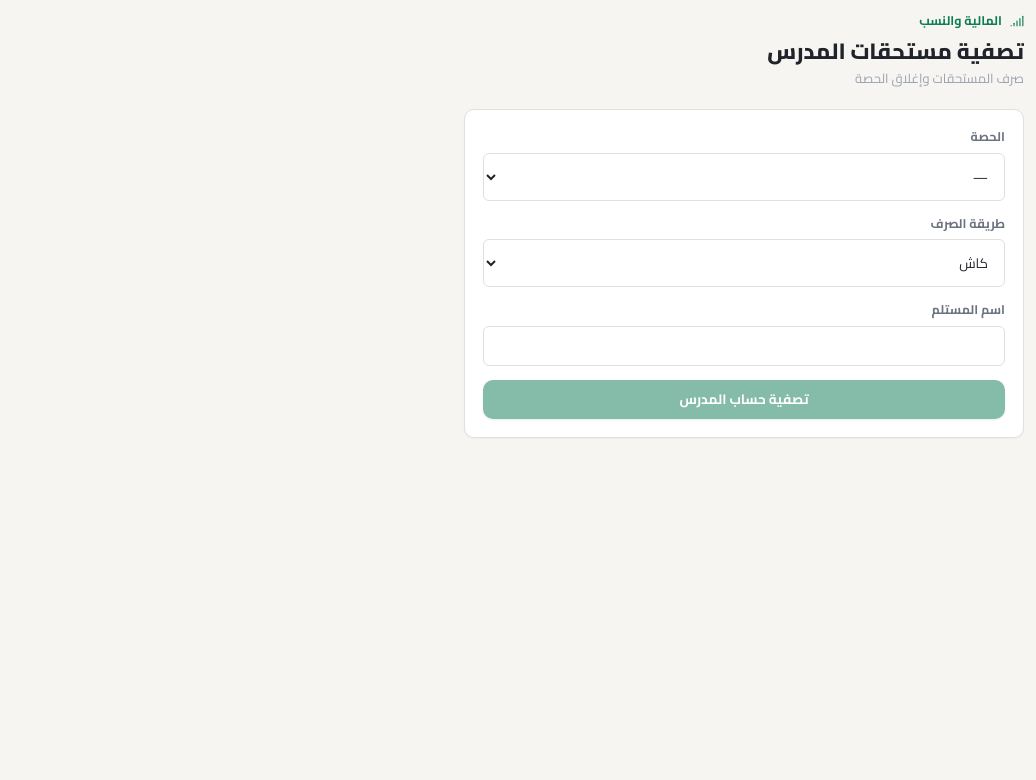
Scenario: SessionActionPage settlement (mode="settlement") › settles a selected session with payout method and recipient
Select "كيمياء ٣ث" in the dropdown labelled "الحصة" at (744, 177), box [483, 153, 1005, 201]
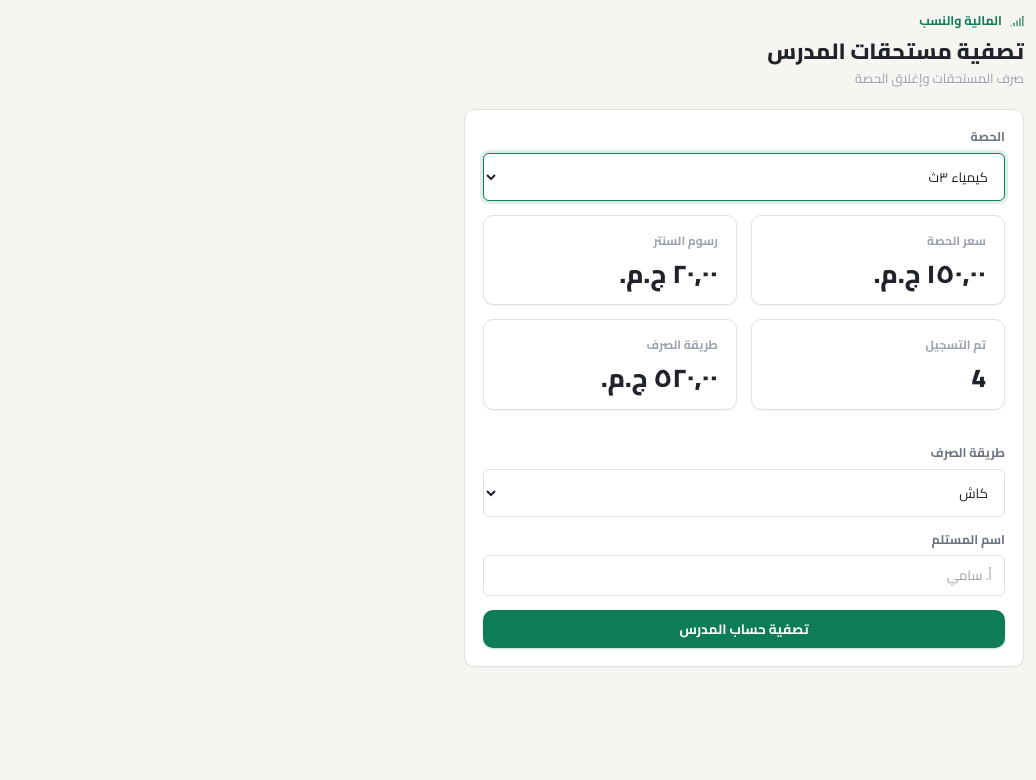
Select "فودافون كاش" in the dropdown labelled "طريقة الصرف" at (744, 492), box [483, 468, 1005, 516]
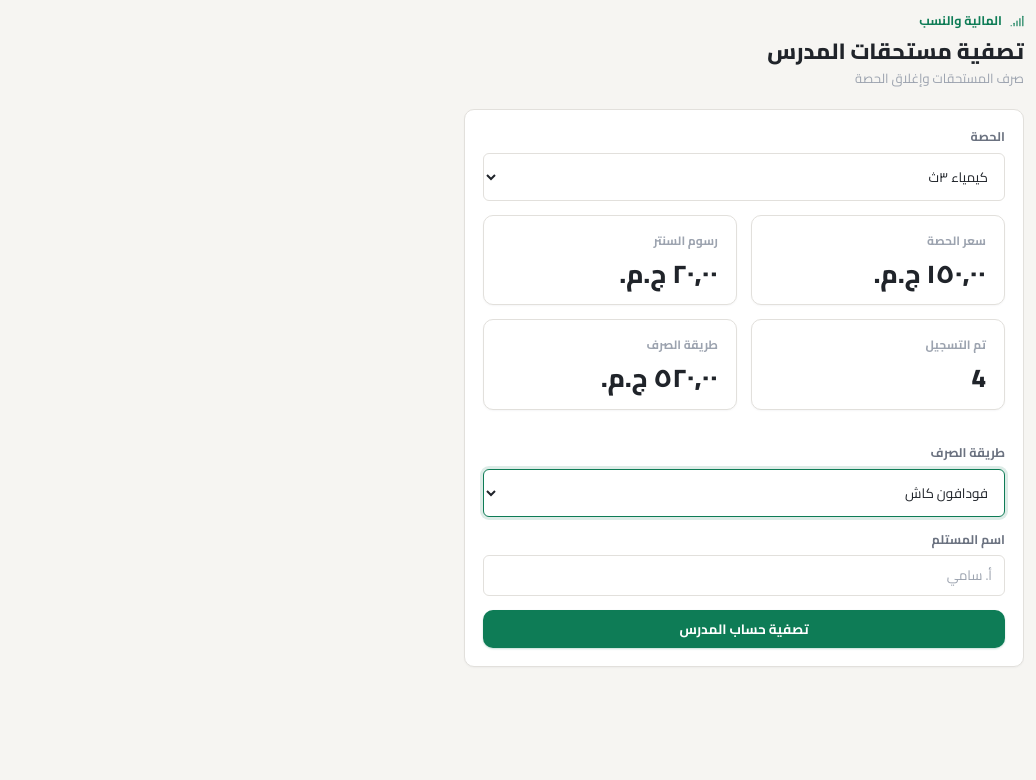
Type "محمود عبد الرحمن" into the field labelled "اسم المستلم".
click(744, 575); type("محمود عبد الرحمن")  # box [483, 555, 1005, 596]
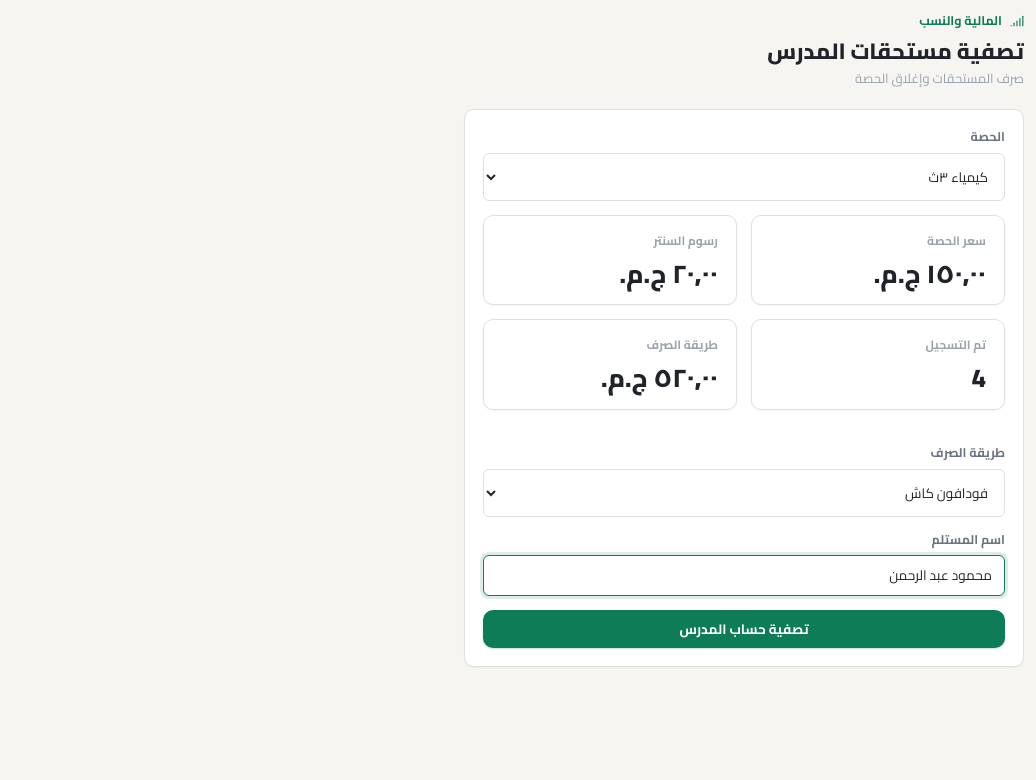
Click the button "تصفية حساب المدرس".
click(744, 629)  # box [483, 610, 1005, 648]
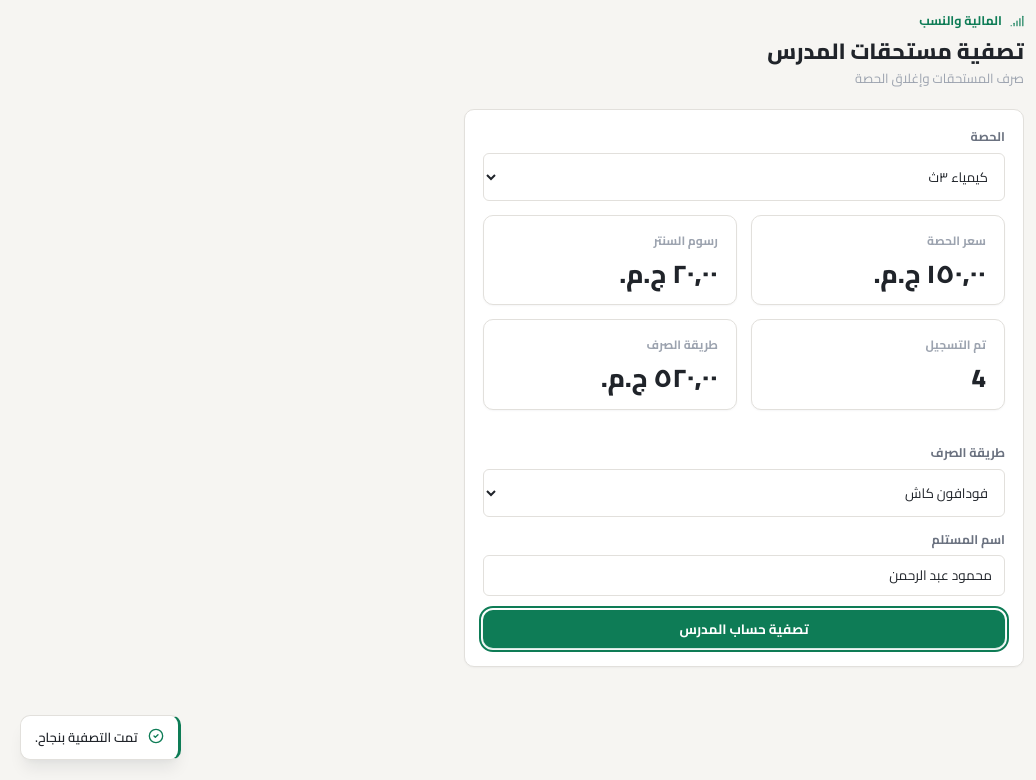
Expected: the text "تمت التصفية بنجاح." is shown, [35, 728, 138, 747]
